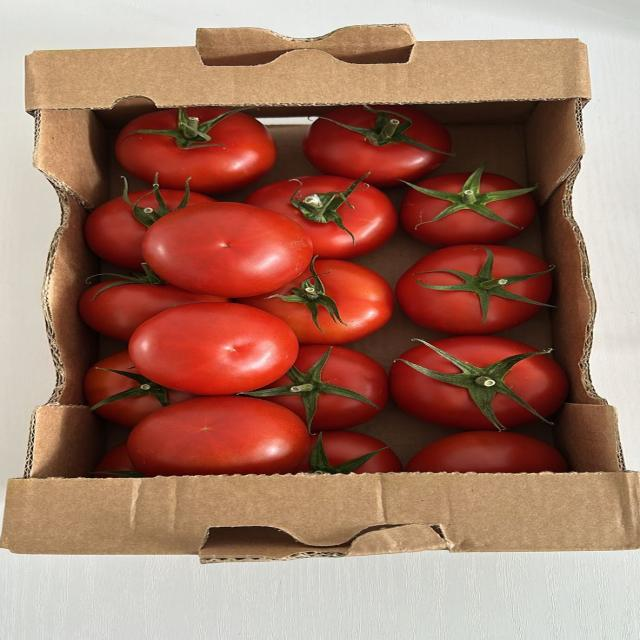tomato: (390, 336, 567, 430), (143, 203, 312, 297), (129, 303, 298, 395), (127, 396, 309, 476), (396, 245, 552, 335), (115, 108, 275, 193), (243, 260, 393, 344), (246, 176, 397, 258), (251, 345, 388, 431), (304, 106, 450, 186), (400, 168, 536, 246), (80, 280, 226, 341), (84, 350, 191, 428), (85, 189, 185, 270), (407, 432, 566, 473), (322, 431, 402, 473), (92, 443, 137, 478)
